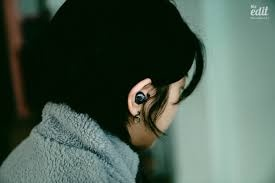earphone: (128, 79, 154, 118)
